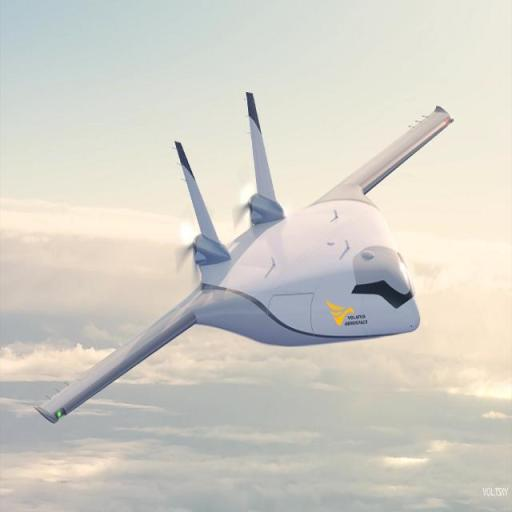uav: (40, 76, 455, 425)
